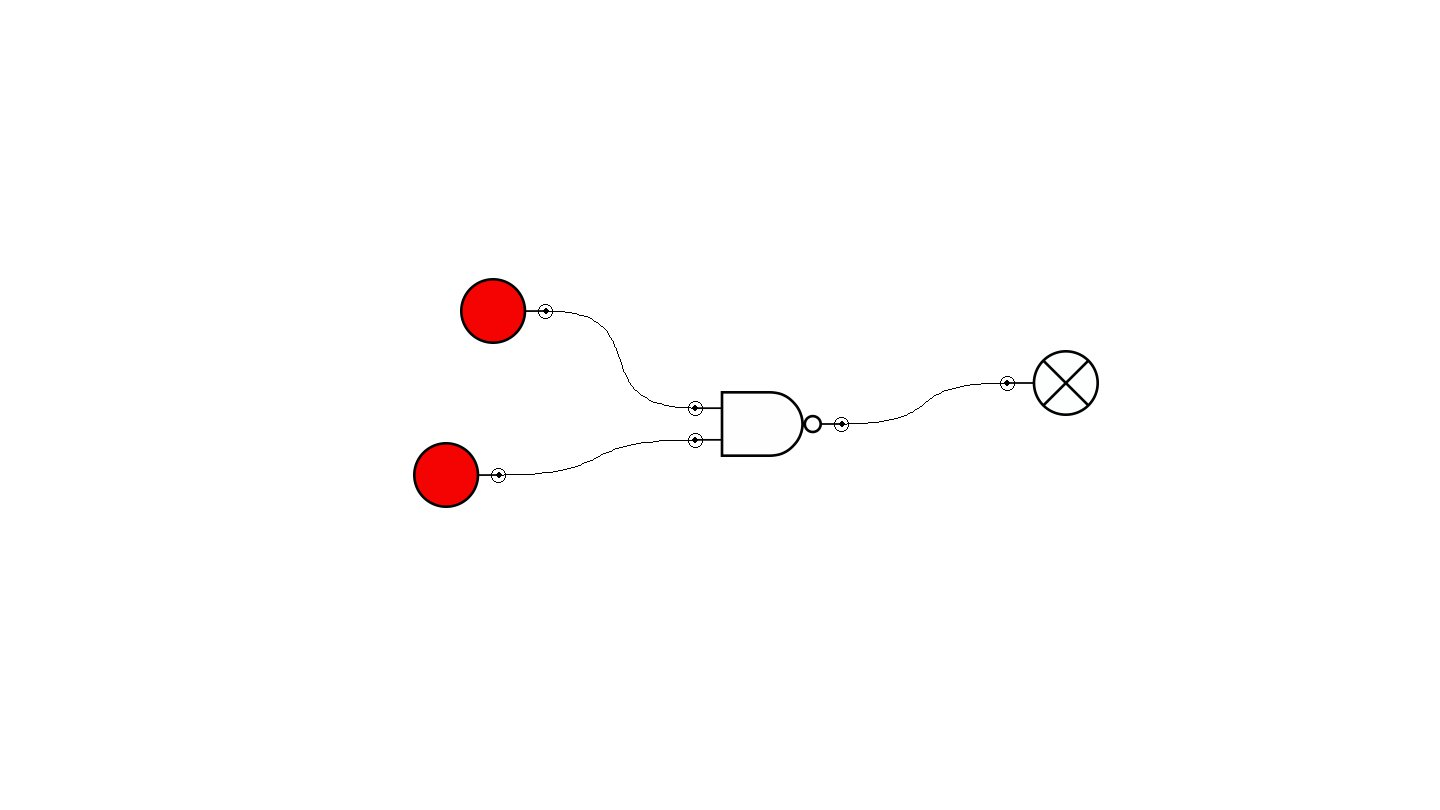bulb: (1000, 350, 1099, 416)
nand: (688, 391, 849, 457)
switch_False: (413, 442, 506, 508), (460, 278, 553, 344)
